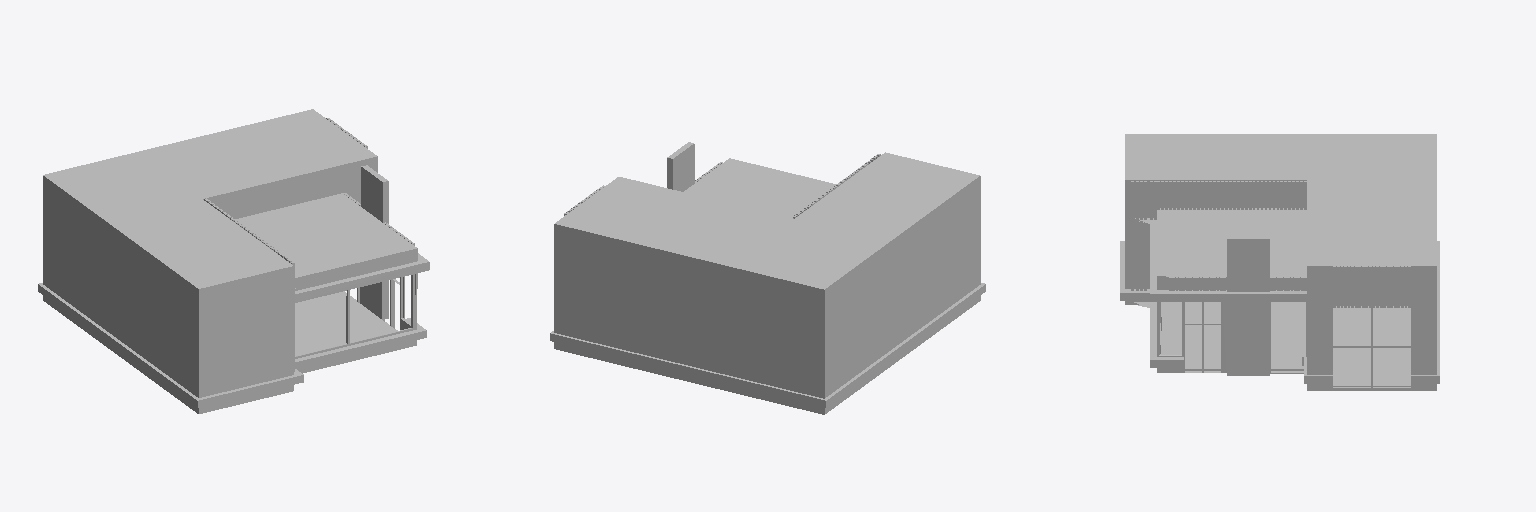
The picture shows the model from 3 angles: view 1: azimuth 30°, elevation 25°; view 2: azimuth 150°, elevation 25°; view 3: azimuth 270°, elevation 25°; orthographic projection.
Visible parts, largest first — view 1: blackbuild, whitebuild, noup, pollbuild, redbuild, stena, framebuild, stickbuild; view 2: blackbuild, whitebuild, pollbuild, redbuild; view 3: blackbuild, noup, stickbuild, redbuild, whitebuild, woodbuild, framebuild, stena, pollbuild.
Part boxes in pixels (bbox=[...]): blackbuild: bbox=[43, 109, 417, 397]; whitebuild: bbox=[38, 253, 429, 407]; noup: bbox=[295, 292, 396, 354]; pollbuild: bbox=[43, 296, 416, 413]; redbuild: bbox=[361, 165, 388, 318]; stena: bbox=[295, 274, 414, 356]; framebuild: bbox=[295, 273, 417, 358]; stickbuild: bbox=[204, 118, 414, 371]; blackbuild: bbox=[554, 152, 980, 398]; whitebuild: bbox=[550, 283, 985, 407]; pollbuild: bbox=[554, 296, 980, 414]; redbuild: bbox=[667, 142, 694, 191]; blackbuild: bbox=[1125, 134, 1436, 374]; noup: bbox=[1134, 302, 1410, 384]; stickbuild: bbox=[1131, 181, 1410, 307]; redbuild: bbox=[1227, 236, 1269, 375]; whitebuild: bbox=[1120, 224, 1439, 383]; woodbuild: bbox=[1131, 180, 1407, 305]; framebuild: bbox=[1157, 302, 1410, 390]; stena: bbox=[1125, 216, 1410, 386]; pollbuild: bbox=[1157, 302, 1436, 390].
Bounding box in the file's own units: 737 × 350 × 737.